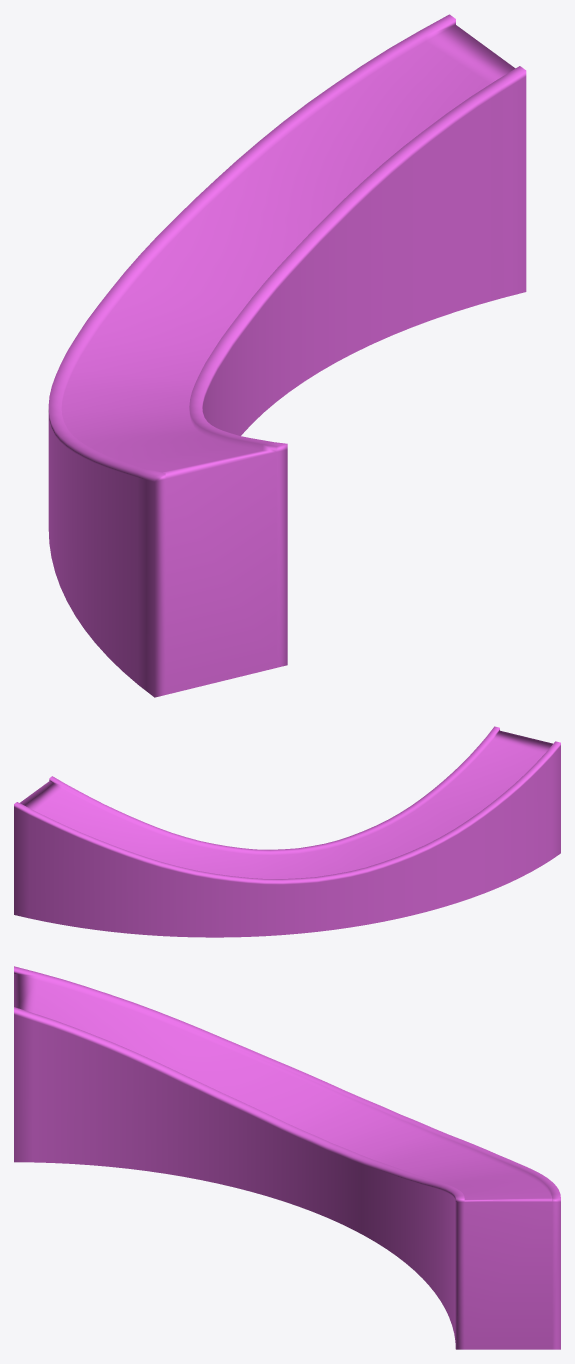
File: RD_Dip_Tall1_90.fbx
3 renders of one model, top to bottom at view 1: azimuth 30°, elevation 25°; view 2: azimuth 150°, elevation 25°; view 3: azimuth 270°, elevation 25°, orthographic. The views are drawn at different scales.
Visible parts, largest first — view 1: Mesh; view 2: Mesh; view 3: Mesh.
Boxes of the visible parts, <box> form: Mesh: <box>48,14,526,697</box>; Mesh: <box>14,726,560,937</box>; Mesh: <box>14,966,560,1349</box>.
Size of the model in its own units: 2506 by 764 by 2497.
